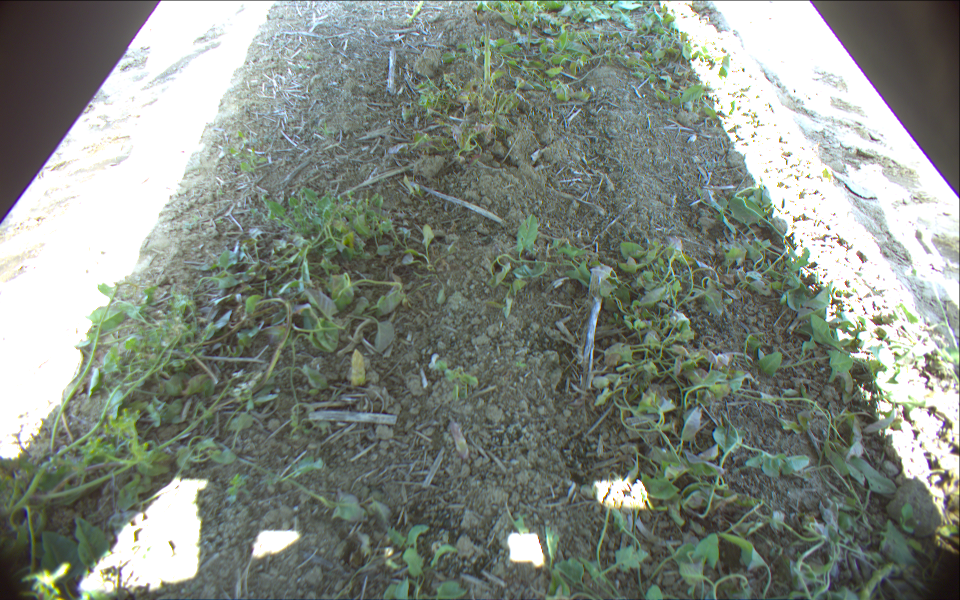aspa: (860, 563, 895, 600), (483, 15, 491, 88), (405, 1, 424, 24)
